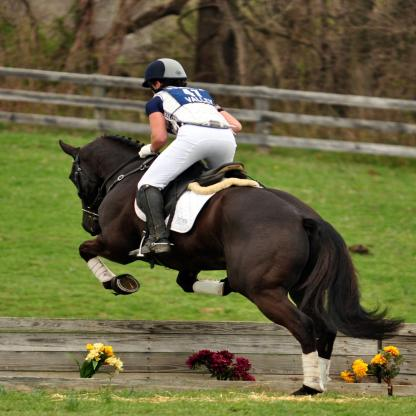Helmet: (146, 58, 189, 86)
